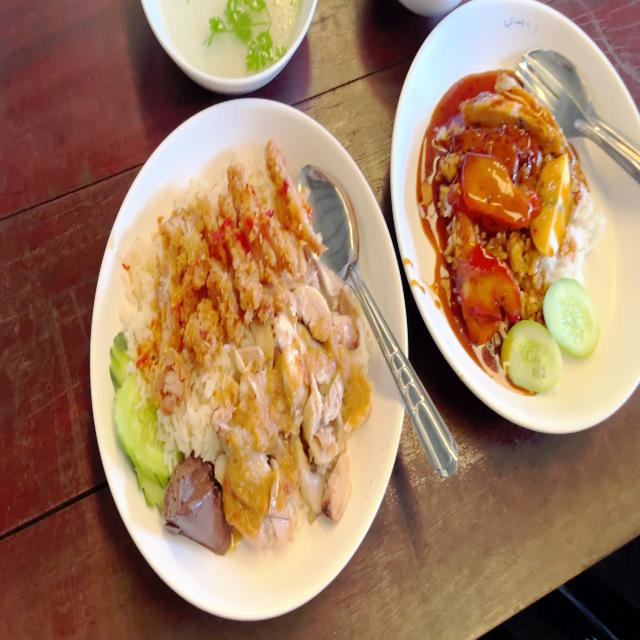boiled_chicken: (169, 265, 379, 571)
boiled_chicken_blood_jelly: (163, 445, 230, 552)
boiled_egg: (531, 156, 571, 256)
chainese_sausage: (472, 118, 537, 170)
chicken_rice: (118, 143, 374, 552)
crispy_pork: (461, 65, 568, 147)
cucumber: (108, 333, 165, 501), (499, 316, 560, 396), (545, 281, 602, 364)
fried_chicken: (137, 121, 338, 433)
red_pork: (456, 244, 520, 336), (463, 150, 531, 228)
red_pork_and_crispy_pork: (426, 66, 622, 388)
